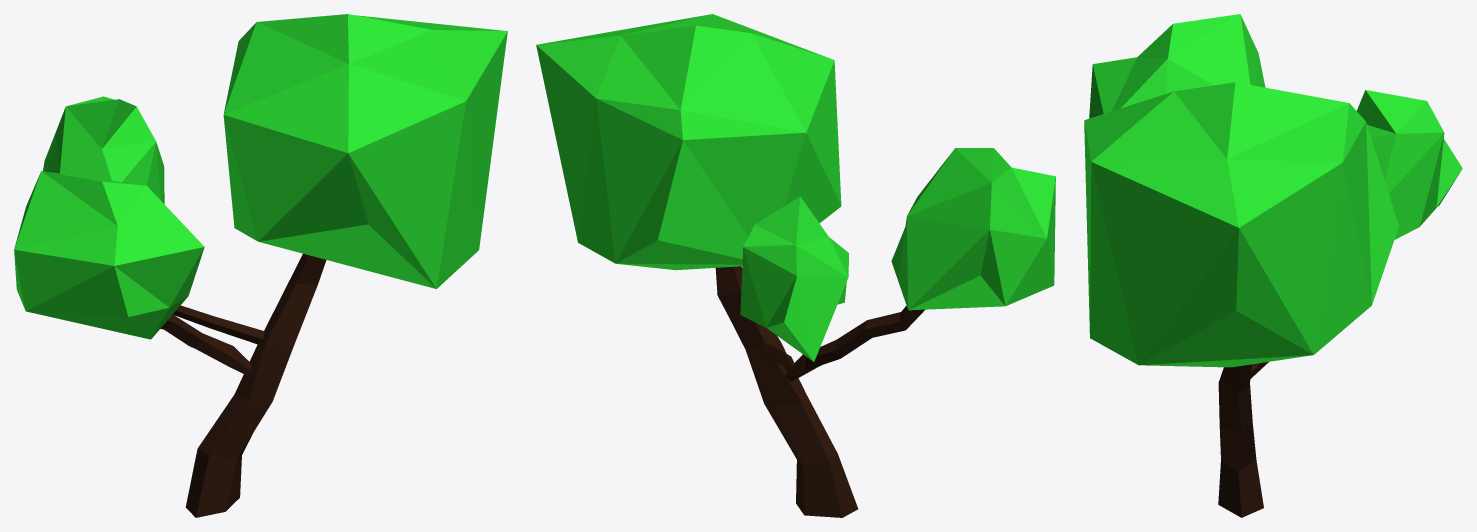
File: Tree003.FBX
3 views of the same model, side by side, from view 1: azimuth 30°, elevation 25°; view 2: azimuth 150°, elevation 25°; view 3: azimuth 270°, elevation 25° (orthographic). The views are drawn at different scales.
Visible parts, largest first — view 1: GeoSphere002, GeoSphere001, Cylinder001, GeoSphere003, Cylinder002, Cylinder003; view 2: GeoSphere002, GeoSphere001, GeoSphere003, Cylinder001, Cylinder002, Cylinder003; view 3: GeoSphere002, GeoSphere001, GeoSphere003, Cylinder001.
Boxes of the visible parts, x1,y1,x2,y2 form: GeoSphere002: (223, 14, 507, 288); GeoSphere001: (14, 171, 204, 339); Cylinder001: (185, 253, 326, 517); GeoSphere003: (43, 96, 164, 203); Cylinder002: (160, 314, 251, 376); Cylinder003: (173, 305, 264, 344); GeoSphere002: (536, 14, 841, 270); GeoSphere001: (891, 148, 1055, 310); GeoSphere003: (740, 196, 848, 361); Cylinder001: (715, 266, 858, 517); Cylinder002: (786, 306, 924, 381); Cylinder003: (758, 343, 810, 376); GeoSphere002: (1084, 82, 1398, 367); GeoSphere001: (1089, 14, 1265, 118); GeoSphere003: (1357, 90, 1462, 239); Cylinder001: (1218, 364, 1263, 517).
Bounding box in the file's own units: 62.38 × 54.02 × 37.81.
